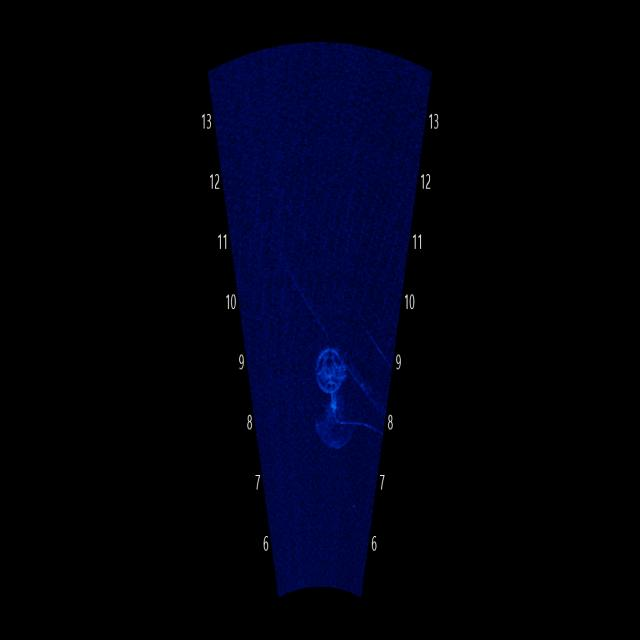circle: (298, 316, 356, 408)
